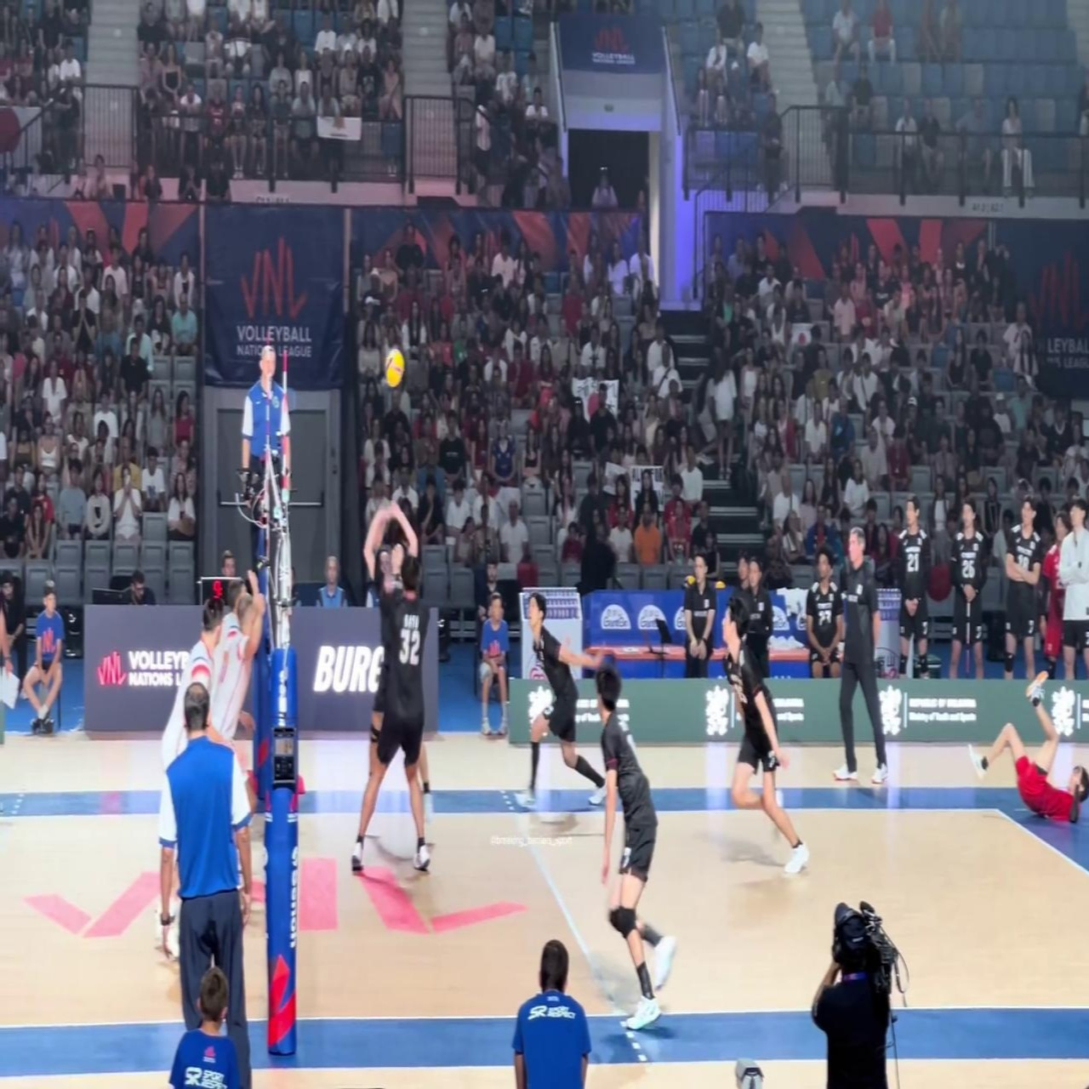ball: (383, 350, 404, 388)
